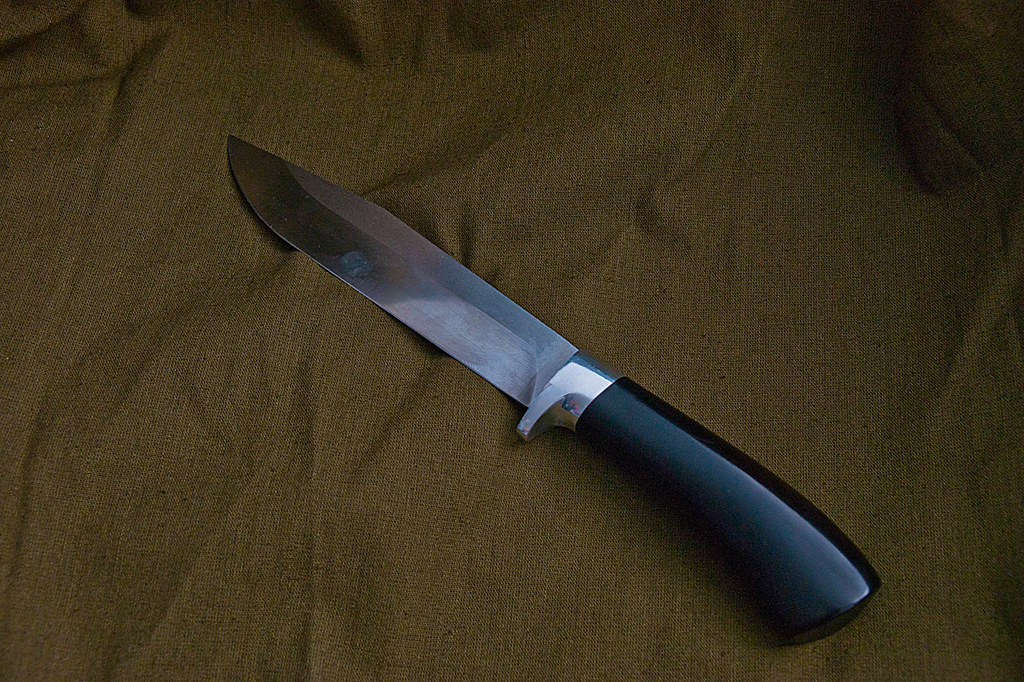knife: (217, 122, 897, 661)
